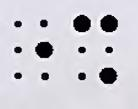dot_5: (14, 20, 54, 80)
two_cell_non_alphabet_masama: (73, 14, 118, 84)
